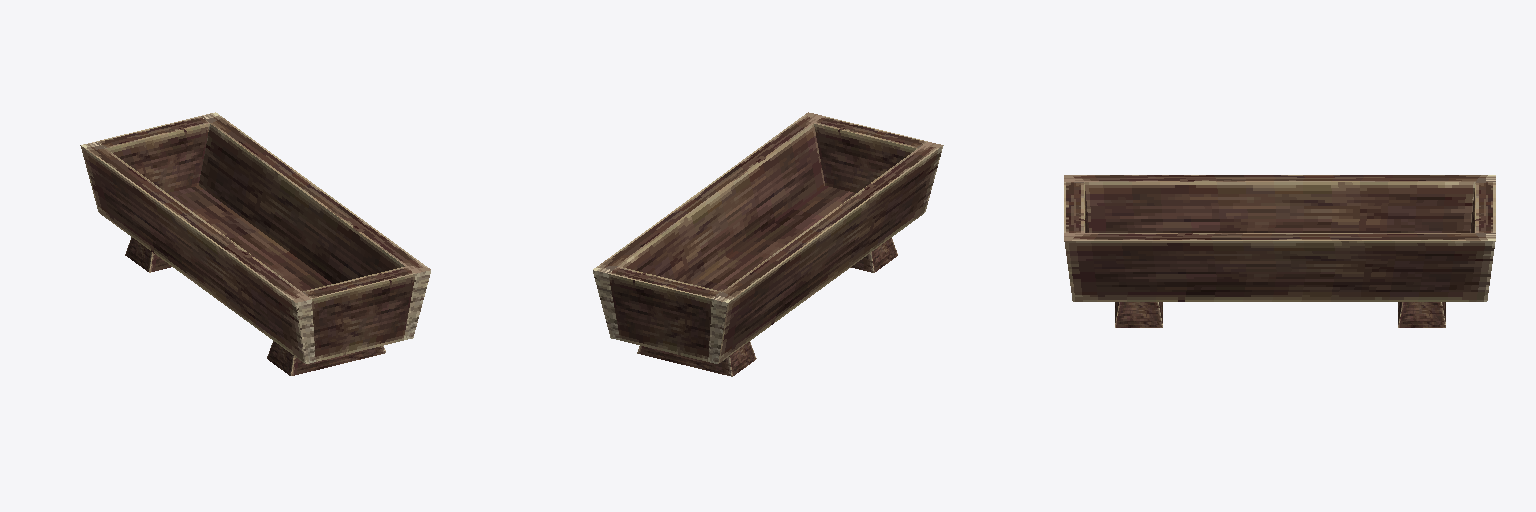
3 views of the same model, side by side, from view 1: azimuth 30°, elevation 25°; view 2: azimuth 150°, elevation 25°; view 3: azimuth 270°, elevation 25° (orthographic).
Parts seen in each view (by area): view 1: FeedTroph01; view 2: FeedTroph01; view 3: FeedTroph01.
Boxes of the visible parts, x1=… form: FeedTroph01: x1=80, y1=112, x2=430, y2=375; FeedTroph01: x1=593, y1=112, x2=943, y2=376; FeedTroph01: x1=1064, y1=175, x2=1495, y2=327.
Bounding box in the file's own units: 0.8386 × 0.5721 × 2.31.
1 materials, 1 textured.